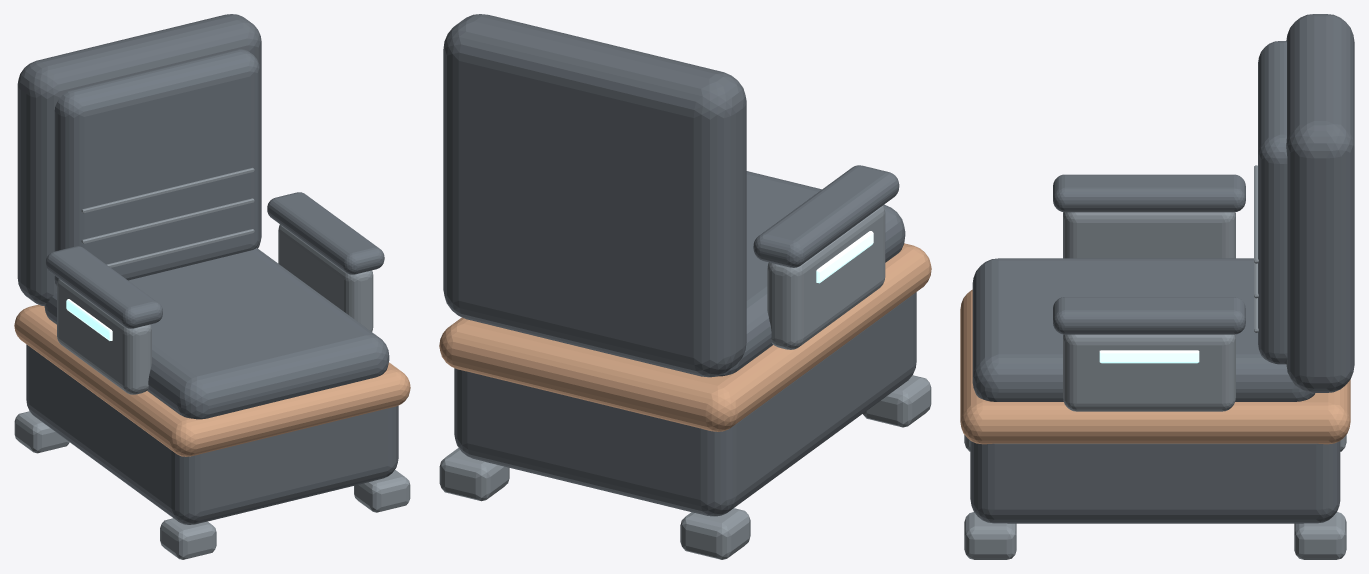
File: cinema_recliner.glb
3 views of the same model, side by side, from view 1: azimuth 30°, elevation 25°; view 2: azimuth 150°, elevation 25°; view 3: azimuth 270°, elevation 25° (orthographic). The views are drawn at different scales.
Parts seen in each view (by area): view 1: back_cushion_009, seat_cushion_007, shell_005, back_shell_008, seat_frame_006, shell_013, shell_017, shell_014, shell_016, foot_002, foot_004, foot_001 (+4 smaller); view 2: back_shell_008, shell_005, seat_frame_006, shell_013, shell_014, seat_cushion_007, foot_001, foot_003, foot_002, shell_015; view 3: shell_005, back_shell_008, seat_cushion_007, seat_frame_006, shell_016, back_cushion_009, shell_013, shell_014, shell_017, foot_003, foot_004, shell_018.
Boxes of the visible parts, x1,y1,x2,y2 form: back_cushion_009: (54,49,259,286); seat_cushion_007: (44,248,389,419); shell_005: (26,344,398,524); back_shell_008: (17,14,261,305); seat_frame_006: (14,304,410,456); shell_013: (57,278,151,394); shell_017: (267,192,384,274); shell_014: (45,246,162,328); shell_016: (278,224,373,331); foot_002: (160,518,216,559); foot_004: (354,470,410,512); foot_001: (14,411,69,453); back_shell_008: (443,14,746,377); shell_005: (454,292,916,516); seat_frame_006: (439,243,931,431); shell_013: (767,205,885,349); shell_014: (753,165,899,267); seat_cushion_007: (718,171,905,376); foot_001: (680,508,750,559); foot_003: (439,448,509,501); foot_002: (863,375,931,427); shell_015: (816,231,873,283); shell_005: (970,441,1340,523); back_shell_008: (1286,14,1354,392); seat_cushion_007: (972,258,1315,401); seat_frame_006: (960,289,1350,444); shell_016: (1063,334,1235,411); back_cushion_009: (1258,41,1287,364); shell_013: (1063,212,1235,258); shell_014: (1053,174,1245,212); shell_017: (1053,297,1245,334); foot_003: (1294,512,1346,559); foot_004: (964,512,1016,559); shell_018: (1099,350,1199,363).
Size of the model in its own units: 0.85 by 1.18 by 0.98.
